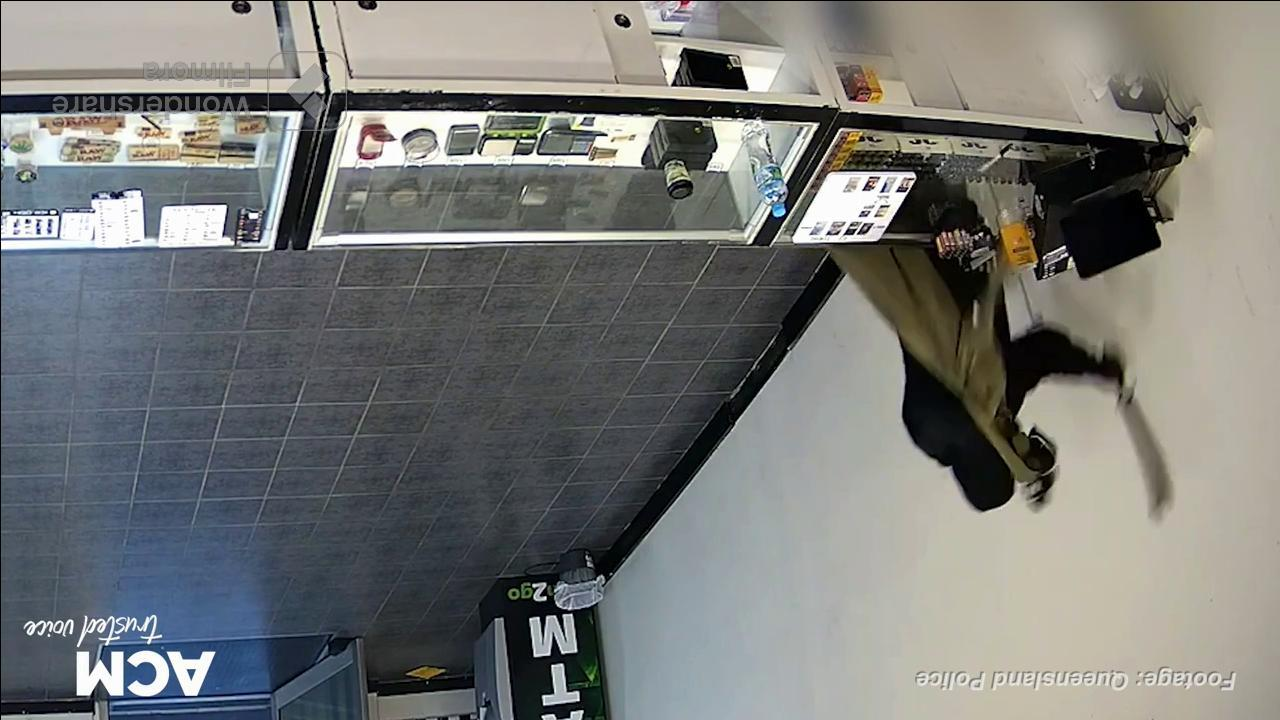melee: (1104, 375, 1178, 524)
